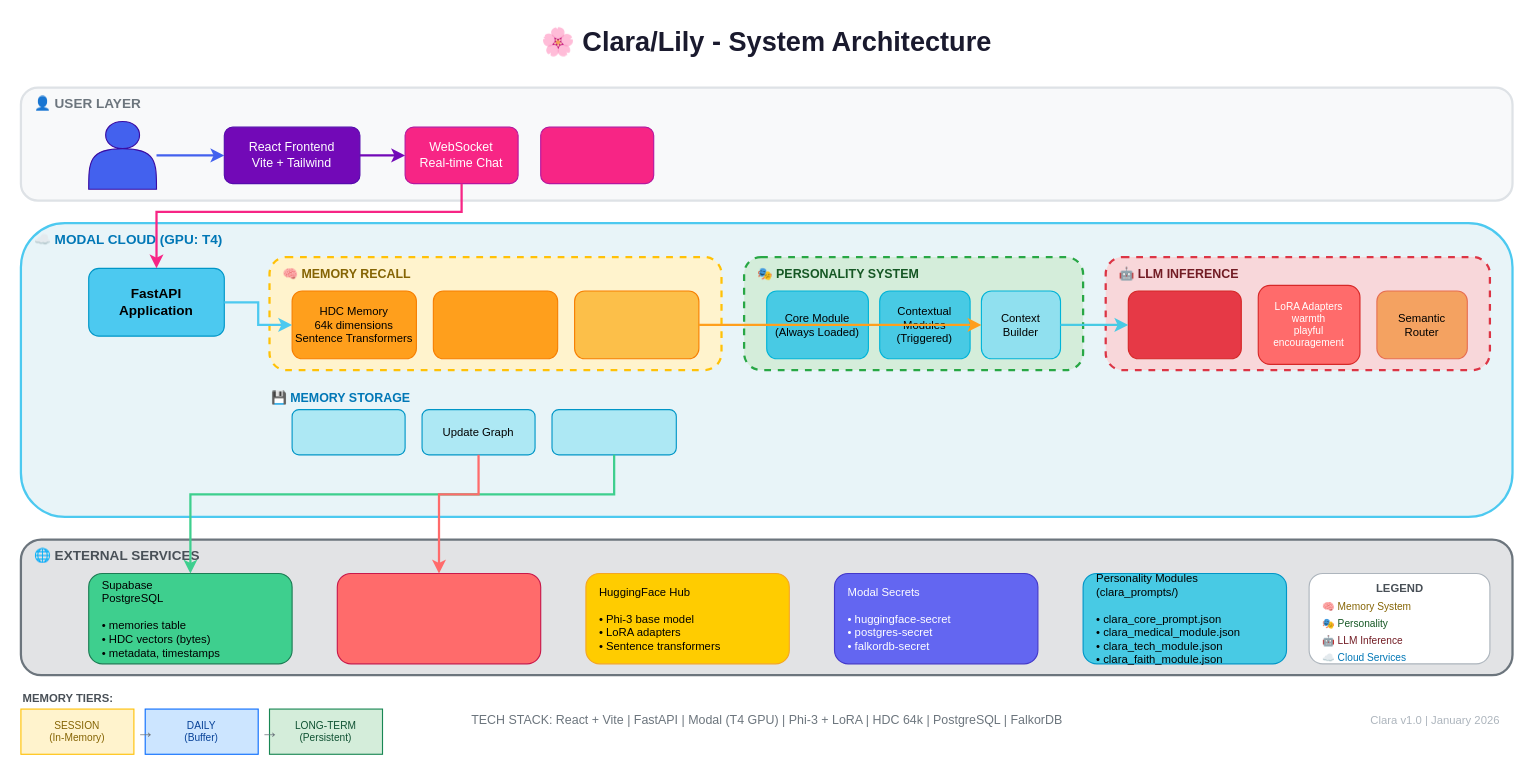
The diagram is 1532 pixels wide and 774 high, and some of its shapes have lost their labels. The shapes that lost their labels are listed below. From the top down, each one's centre as x and y in pixels, then its label:
point (122, 154): User (Chris)
point (597, 155): REST API /api/chat
point (495, 324): FalkorDB Graph RAG Entity Expansion
point (636, 324): Integrated Memory Manager
point (1184, 324): Phi-3 Mini 4-bit Quantized
point (348, 431): Store HDC Vector
point (613, 431): Store to PostgreSQL
point (438, 618): FalkorDB Cloud Graph Database • Entity nodes • Relationship edges • Memory links
